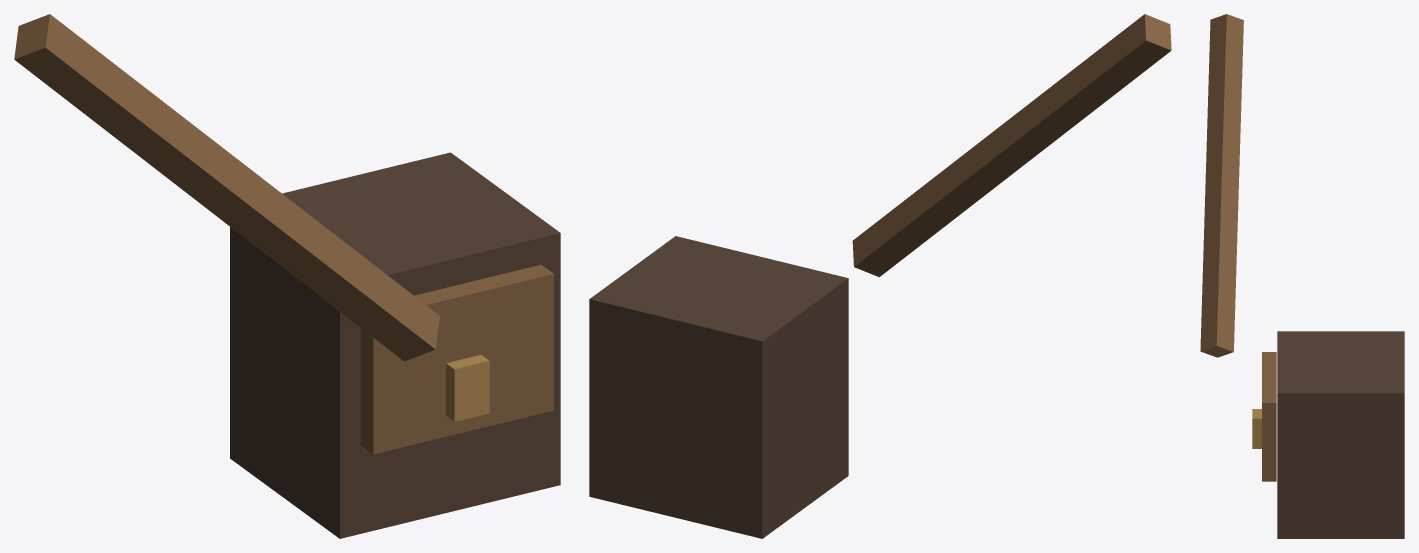
File: NPC_Back_02_Satchel.glb
3 views of the same model, side by side, from view 1: azimuth 30°, elevation 25°; view 2: azimuth 150°, elevation 25°; view 3: azimuth 270°, elevation 25° (orthographic). The views are drawn at different scales.
Visible parts, largest first — view 1: NPC_Back_02_Satchel; view 2: NPC_Back_02_Satchel; view 3: NPC_Back_02_Satchel.
Part boxes in pixels (x1,y1,x2,y2): NPC_Back_02_Satchel: (14, 14, 560, 538); NPC_Back_02_Satchel: (589, 14, 1171, 538); NPC_Back_02_Satchel: (1200, 14, 1404, 538).
Bounding box in the file's own units: 0.5874 × 0.6079 × 0.305.
